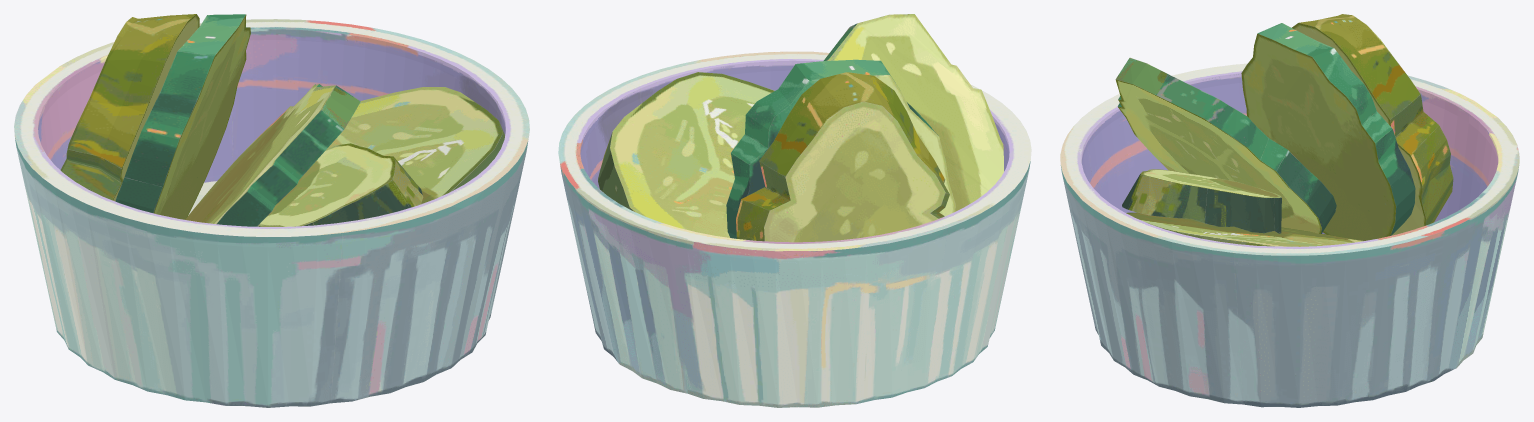
Rendered from pickles_3d_version_of_hyuna_lees_illustration-transformed_compressed.glb.
3 views of the same model, side by side, from view 1: azimuth 30°, elevation 25°; view 2: azimuth 150°, elevation 25°; view 3: azimuth 270°, elevation 25° (orthographic). The views are drawn at different scales.
Parts seen in each view (by area): view 1: Object_6; view 2: Object_6; view 3: Object_6.
Boxes of the visible parts, x1,y1,x2,y2 form: Object_6: (14, 14, 529, 407); Object_6: (558, 14, 1031, 407); Object_6: (1060, 14, 1519, 407).
Size of what is drawn, in the model's own units: 0.1425 by 0.0921 by 0.1425.
Materials: 1 (1 with a texture image).
